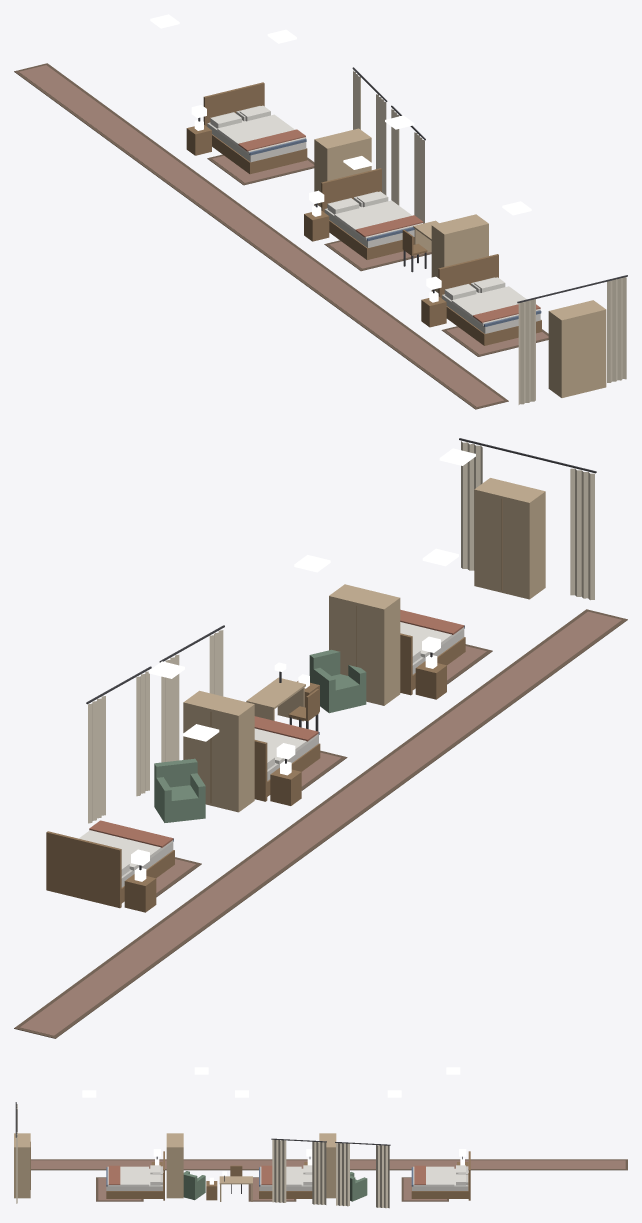
The model's file is fine-s1.glb.
The picture shows the model from 3 angles, top to bottom: view 1: azimuth 30°, elevation 25°; view 2: azimuth 150°, elevation 25°; view 3: azimuth 270°, elevation 25°; orthographic projection. The views are drawn at different scales.
Parts seen in each view (by area): view 1: soft-s1, dresser.002, bed-frame.000, bed-frame.002, bed-frame.001, dresser.001, dresser.000, nightstand.000, nightstand.002, nightstand.001; view 2: soft-s1, dresser.002, dresser.000, dresser.001, bed-frame.000, lounge-chair.000, lounge-chair.001, writing-desk.000, bed-frame.001, bed-frame.002, nightstand.000, nightstand.002 (+1 smaller); view 3: soft-s1, dresser.001, dresser.002, bed-frame.000, bed-frame.002, dresser.000, bed-frame.001, lounge-chair.001, lounge-chair.000, writing-desk.000, side-table.000.
Part boxes in pixels (box(x1,y1,x2,y2)): soft-s1: box(14, 63, 627, 409); dresser.002: box(548, 300, 606, 397); bed-frame.000: box(203, 82, 307, 174); bed-frame.002: box(438, 254, 541, 345); bed-frame.001: box(321, 168, 414, 259); dresser.001: box(431, 214, 488, 292); dresser.000: box(314, 128, 371, 206); nightstand.000: box(186, 119, 211, 155); nightstand.002: box(421, 291, 446, 327); nightstand.001: box(304, 205, 329, 241); soft-s1: box(14, 438, 627, 1038); dresser.002: box(474, 478, 545, 599); dresser.000: box(183, 690, 254, 812); dresser.001: box(329, 584, 400, 705); bed-frame.000: box(46, 831, 174, 908); lounge-chair.000: box(154, 758, 205, 822); lounge-chair.001: box(309, 649, 366, 713); writing-desk.000: box(246, 662, 305, 721); bed-frame.001: box(254, 732, 320, 801); bed-frame.002: box(400, 625, 465, 695); nightstand.000: box(124, 867, 156, 912); nightstand.002: box(415, 654, 446, 699); soft-s1: box(15, 1102, 627, 1208); dresser.001: box(166, 1133, 183, 1198); dresser.002: box(14, 1133, 30, 1198); bed-frame.000: box(411, 1151, 470, 1200); bed-frame.002: box(106, 1151, 164, 1200); dresser.000: box(319, 1133, 336, 1198); bed-frame.001: box(259, 1167, 312, 1198); lounge-chair.001: box(183, 1171, 205, 1200); lounge-chair.000: box(350, 1172, 367, 1201); writing-desk.000: box(219, 1171, 252, 1201); side-table.000: box(206, 1177, 217, 1200).
Size of the model in its own units: 4.23 by 3.74 by 21.95.
